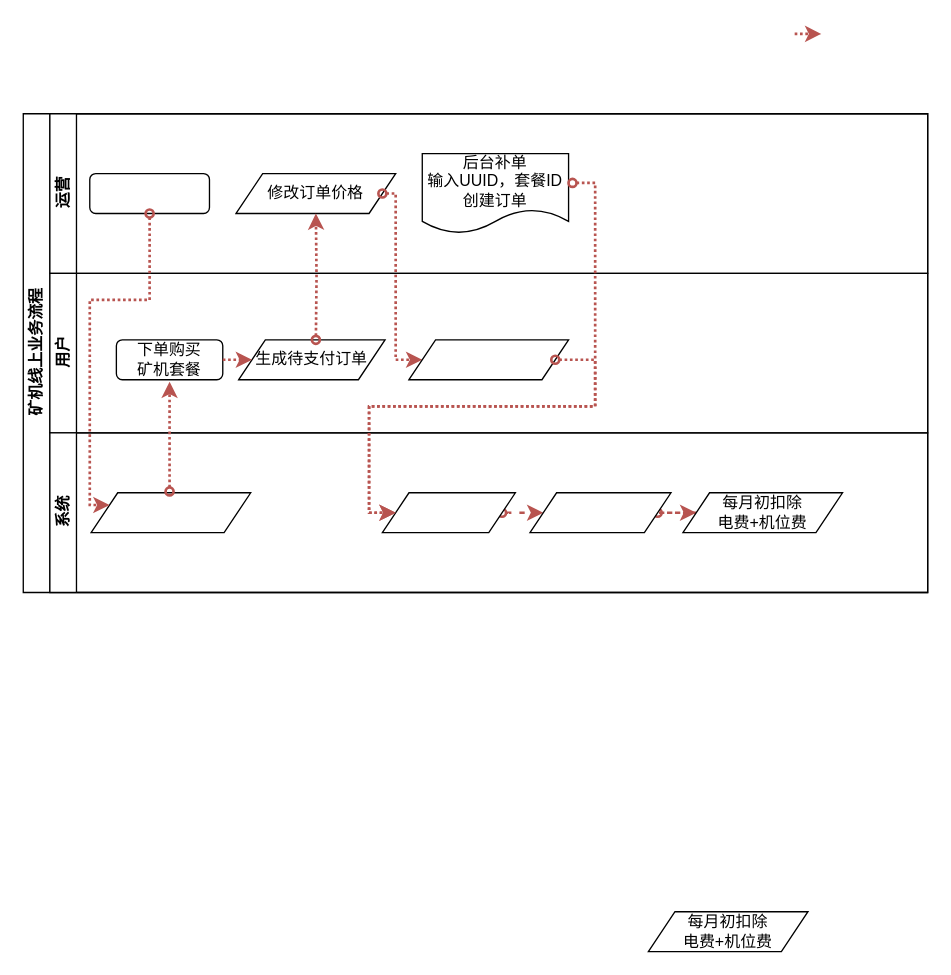
This 951x975 diagram has some shape labels left out. The centre of each missing label's shape, as x and y in pixels:
"App端展示套餐" belongs at point 170,512.
"刷新订单&付款" belongs at point 488,359.
"建矿机套餐" belongs at point 148,192.
"收益发放" belongs at point 600,512.
"订单生效" belongs at point 448,512.
